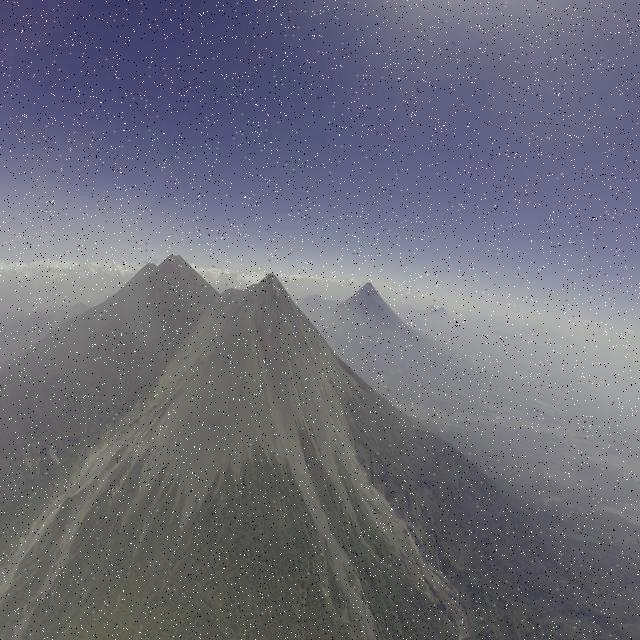Summit: (245, 270, 293, 304)
